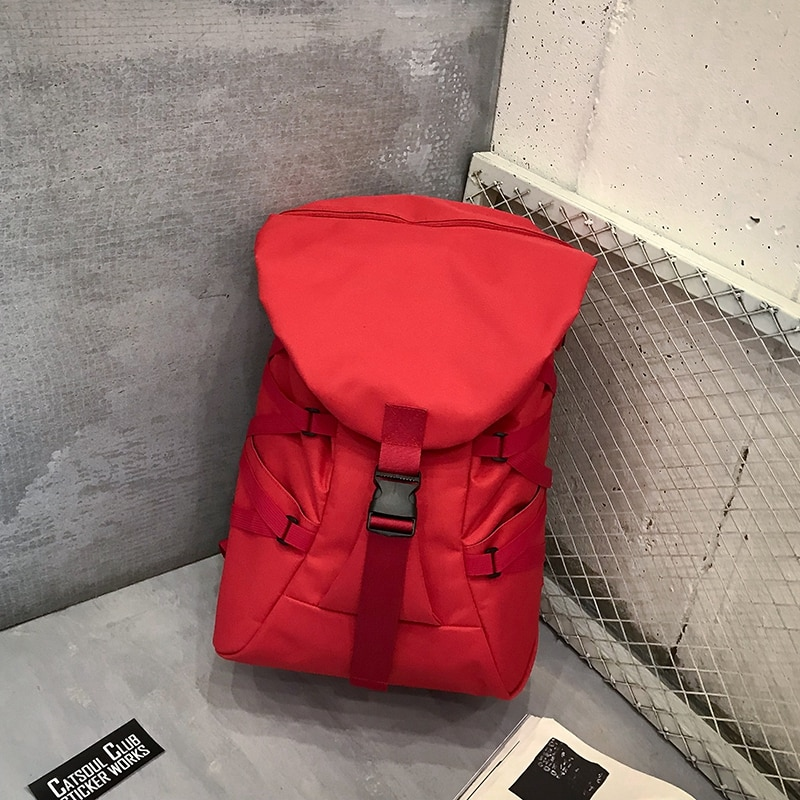Men's Backpacks: (215, 191, 598, 703)
